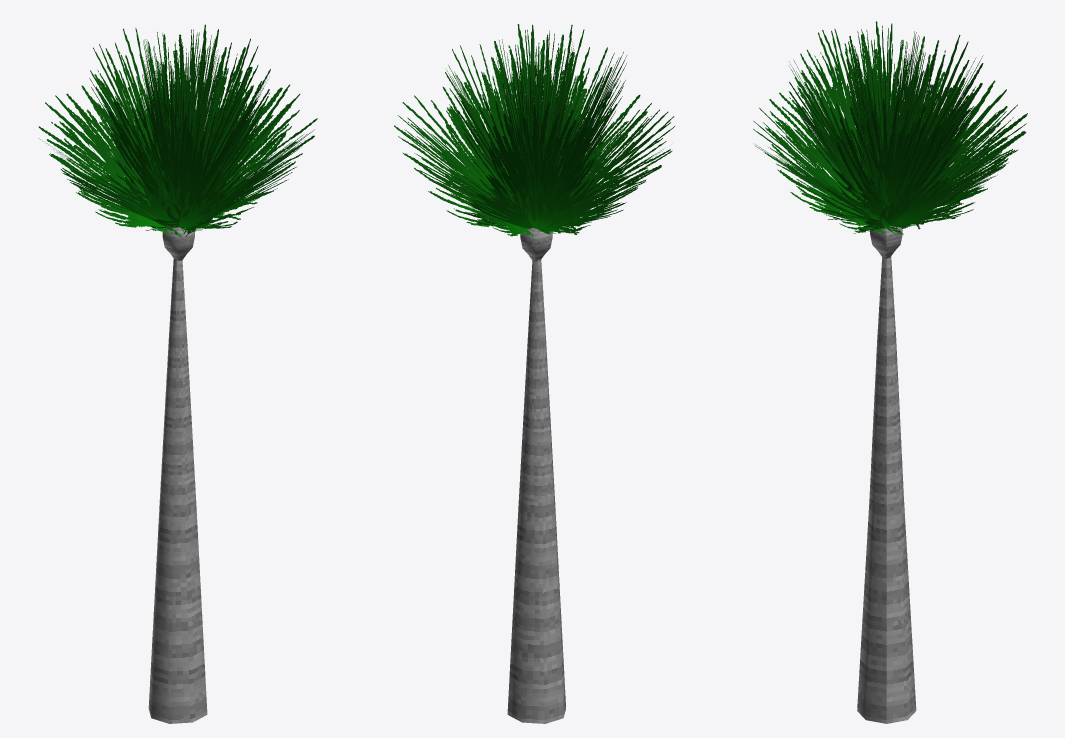
Rendered from palm06.obj.
3 views of the same model, side by side, from view 1: azimuth 30°, elevation 25°; view 2: azimuth 150°, elevation 25°; view 3: azimuth 270°, elevation 25° (orthographic).
Parts seen in each view (by area): view 1: Cylinder02, Duplicate06, Duplicate07, Duplicate03, Duplicate04, Duplicate05, Duplicate01, Box01, Duplicate02, Sphere01; view 2: Cylinder02, Duplicate06, Duplicate07, Duplicate04, Duplicate05, Duplicate03, Duplicate01, Duplicate02, Box01, Sphere01; view 3: Duplicate06, Cylinder02, Duplicate07, Duplicate05, Duplicate04, Duplicate03, Box01, Duplicate01, Sphere01, Duplicate02.
Boxes of the visible parts, x1,y1,x2,y2 form: Cylinder02: (148,258,207,723); Duplicate06: (89,24,270,231); Duplicate07: (141,29,219,187); Duplicate03: (38,86,222,236); Duplicate04: (65,129,314,237); Duplicate05: (174,68,317,234); Duplicate01: (39,85,164,227); Box01: (59,71,170,213); Duplicate02: (146,66,288,203); Sphere01: (162,226,194,260); Cylinder02: (507,259,565,723); Duplicate06: (445,24,626,213); Duplicate07: (496,29,574,185); Duplicate04: (445,68,670,231); Duplicate05: (394,68,590,234); Duplicate03: (469,109,674,234); Duplicate01: (464,182,621,228); Duplicate02: (396,115,533,236); Box01: (418,168,581,234); Sphere01: (520,228,552,261); Duplicate06: (788,21,983,213); Cylinder02: (857,256,916,723); Duplicate07: (846,25,925,178); Duplicate05: (756,145,1006,234); Duplicate04: (753,69,898,233); Duplicate03: (775,61,1026,216); Box01: (903,104,1027,229); Duplicate01: (920,78,1027,221); Sphere01: (870,226,902,258); Duplicate02: (857,158,1008,230).
Size of the model in its own units: 65.16 by 147 by 63.46.
